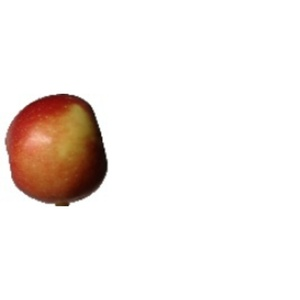maçã braeburn: (1, 88, 110, 208)
